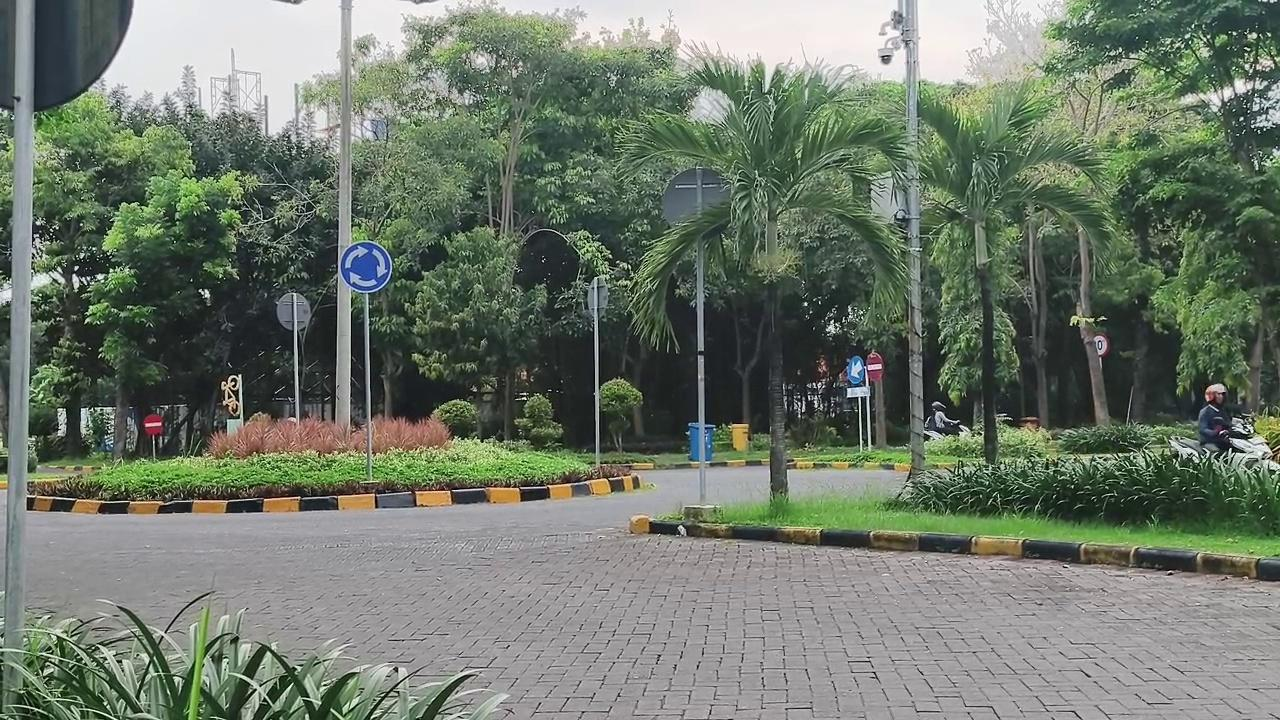Helmet: (1198, 383, 1230, 451), (927, 401, 959, 434)
Motor: (1169, 415, 1279, 469), (924, 425, 970, 439)
